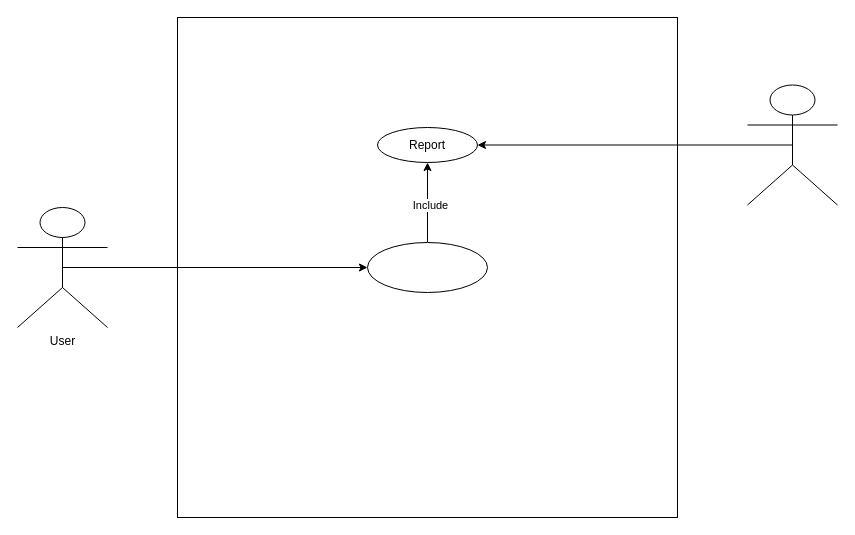
Image size: 855x535. Some labels were removed from this diagram. Each missing label, with the centre of its shape:
Admin: the point at 792,144
Lapor: the point at 427,267
